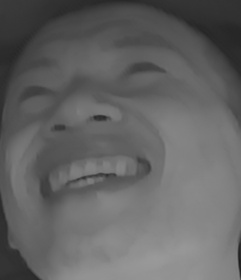eye: (120, 54, 171, 84), (11, 81, 60, 110)
mouth: (31, 139, 157, 220)
